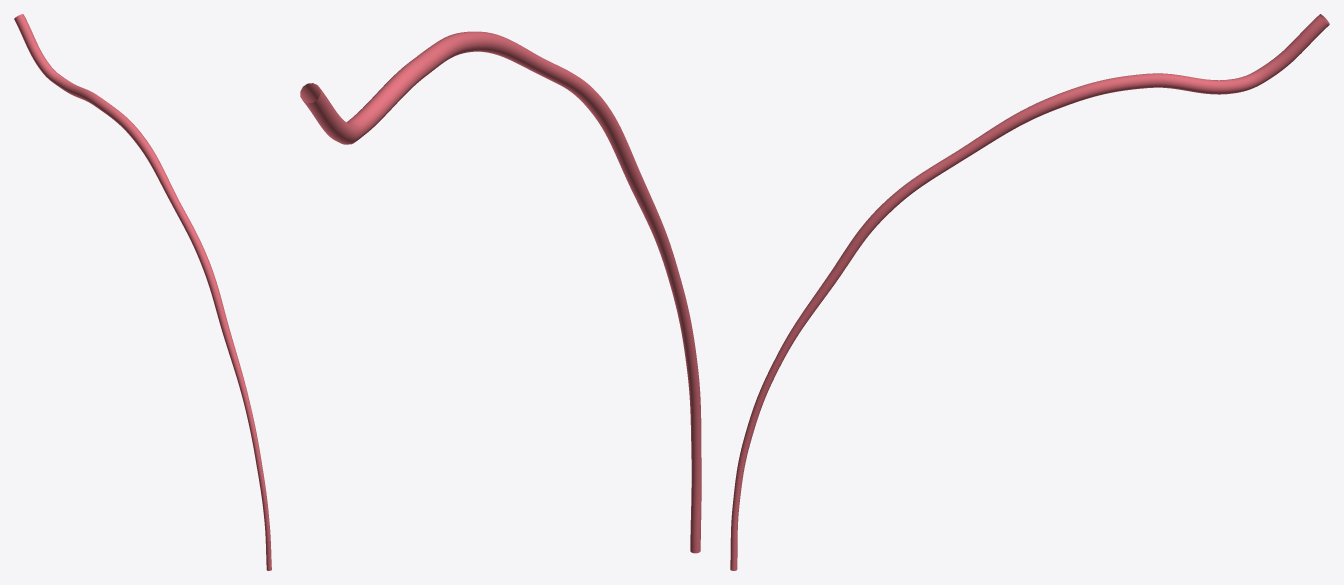
3 renders of one model, left to right at view 1: azimuth 30°, elevation 25°; view 2: azimuth 150°, elevation 25°; view 3: azimuth 270°, elevation 25°, orthographic. The views are drawn at different scales.
Parts seen in each view (by area): view 1: ZA_0c1ab93f467b23f7; view 2: ZA_0c1ab93f467b23f7; view 3: ZA_0c1ab93f467b23f7.
Part boxes in pixels (<box>): ZA_0c1ab93f467b23f7: <box>14,14,271,570</box>; ZA_0c1ab93f467b23f7: <box>300,31,701,553</box>; ZA_0c1ab93f467b23f7: <box>730,14,1329,570</box>.
Size of the model in its own units: 0.00502 by 0.0537 by 0.0544.
